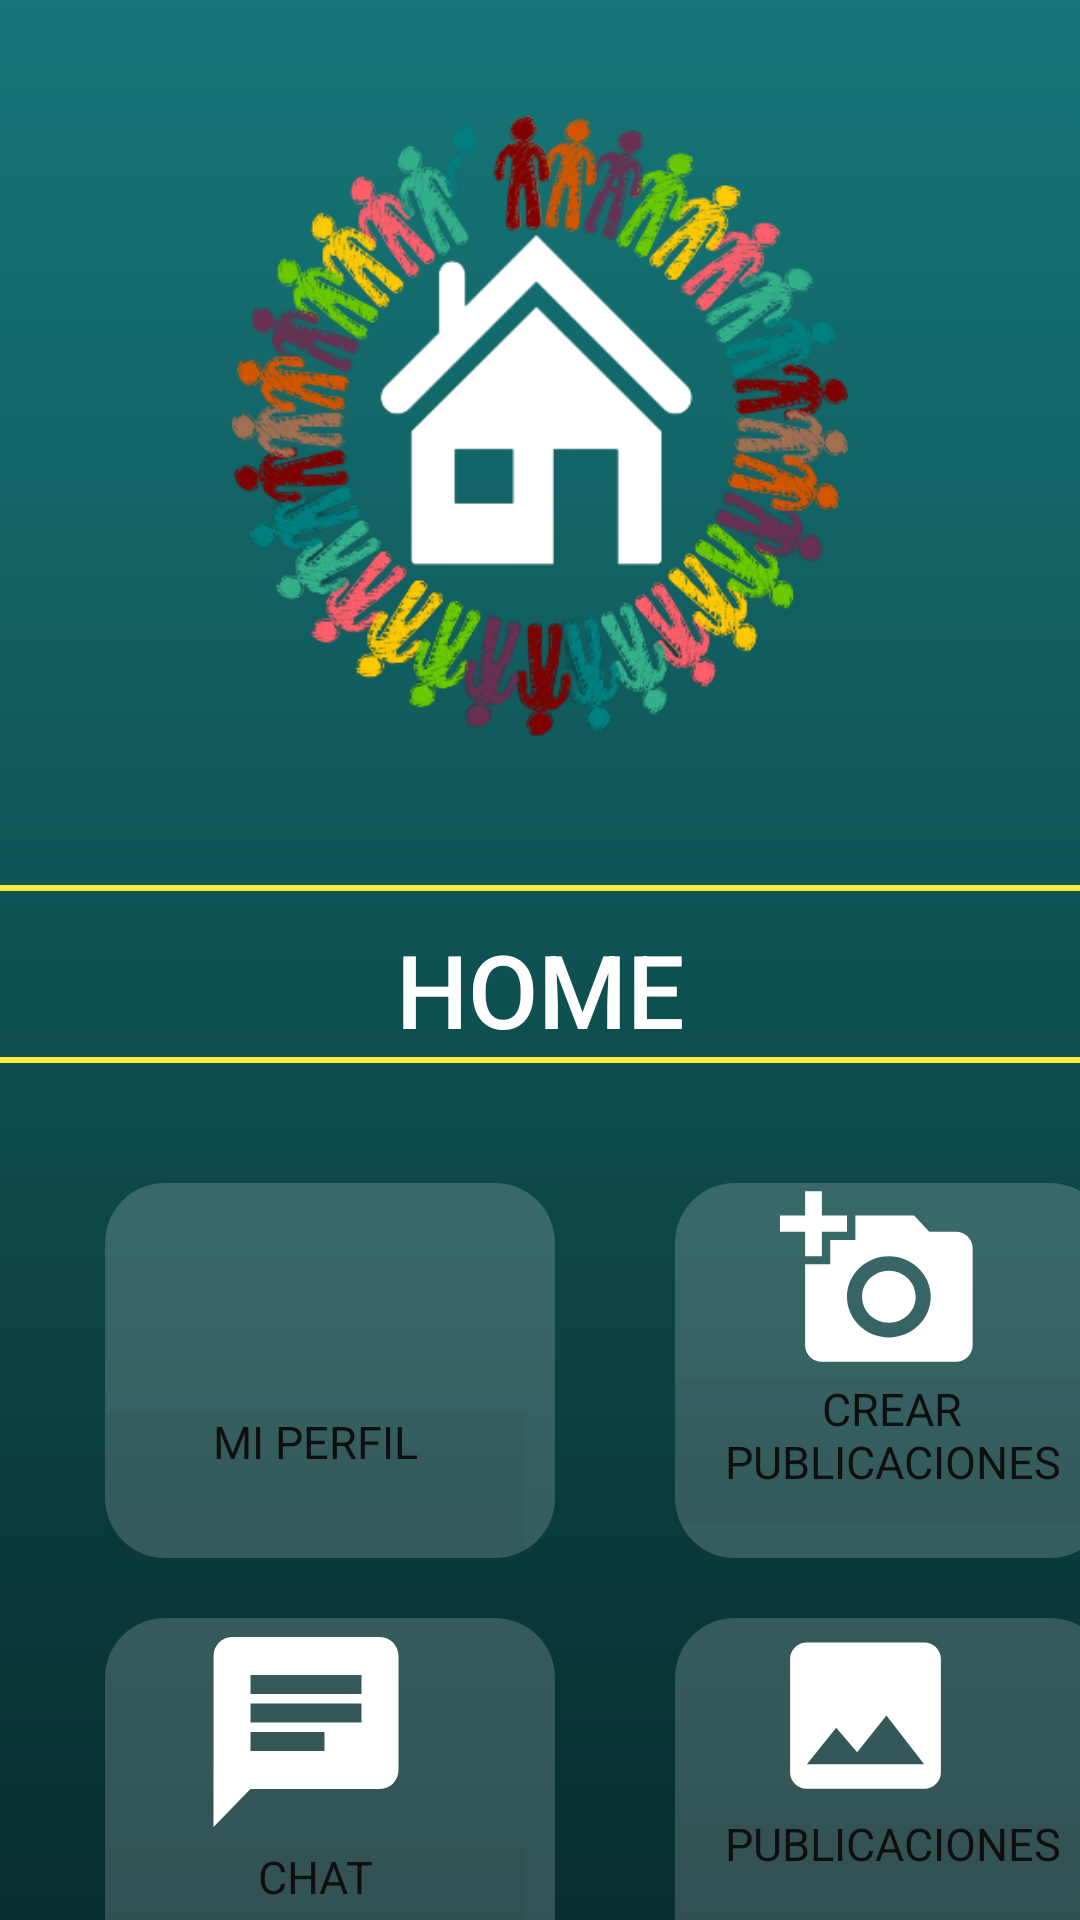

Screen size 1080px×1920px. Icon name, then its box in pixels as bbox(x1, y1, x2, y2):
add photo: bbox(780, 1191, 973, 1362)
photo: bbox(790, 1642, 941, 1789)
